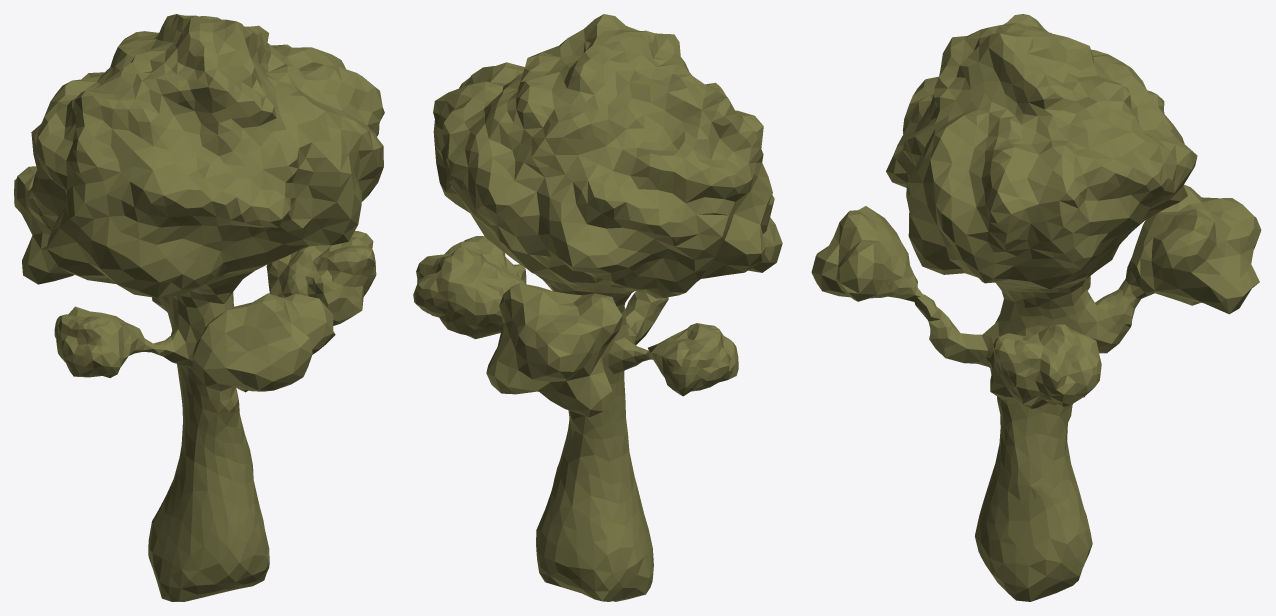
File: drvoZaVladu2.fbx
3 renders of one model, left to right at view 1: azimuth 30°, elevation 25°; view 2: azimuth 150°, elevation 25°; view 3: azimuth 270°, elevation 25°, orthographic. The views are drawn at different scales.
Parts seen in each view (by area): view 1: Cube; view 2: Cube; view 3: Cube.
Part boxes in pixels (bbox=[...]): Cube: bbox=[14, 14, 384, 601]; Cube: bbox=[413, 14, 782, 601]; Cube: bbox=[811, 14, 1261, 601].
Size of the model in its own units: 654 by 1069 by 781.
